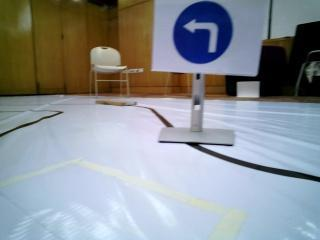left: (166, 0, 249, 73)
